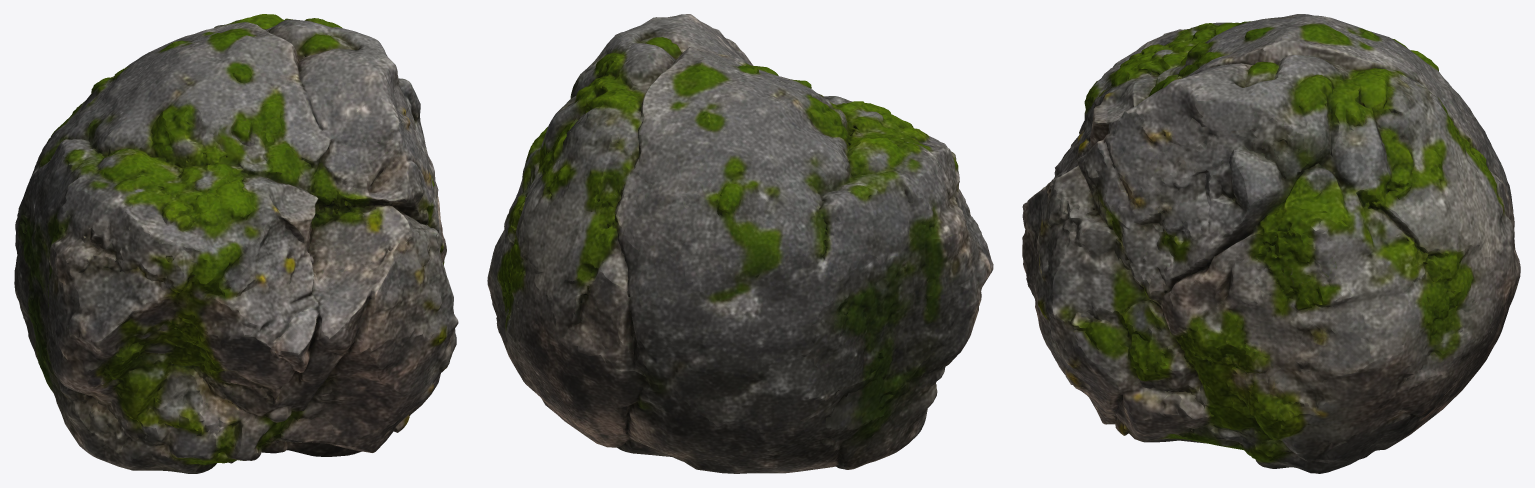
File: boulder-hero-v16.glb
The picture shows the model from 3 angles, left to right: view 1: azimuth 30°, elevation 25°; view 2: azimuth 150°, elevation 25°; view 3: azimuth 270°, elevation 25°; orthographic projection. The views are drawn at different scales.
Parts seen in each view (by area): view 1: geometry_0; view 2: geometry_0; view 3: geometry_0.
Part boxes in pixels (x1,y1,x2,y2): geometry_0: [14, 14, 458, 473]; geometry_0: [487, 14, 993, 473]; geometry_0: [1022, 14, 1520, 473].
Bounding box in the file's own units: 0.35 × 0.3044 × 0.35.
1 material, 1 textured.
